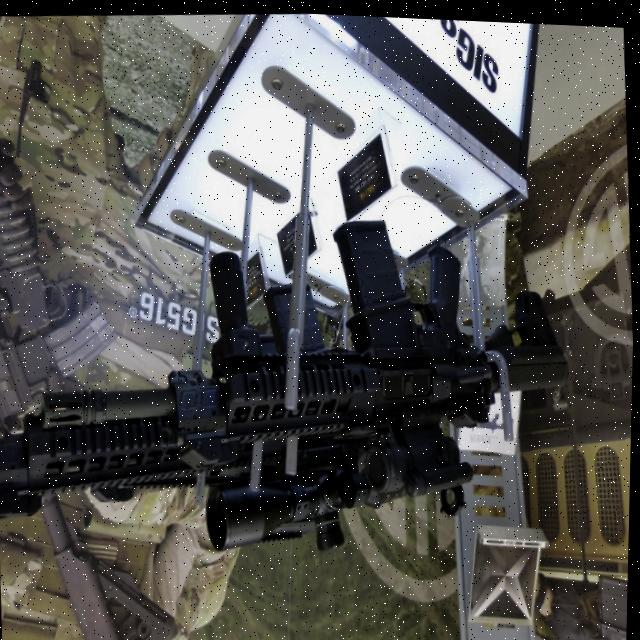firearm: (29, 191, 584, 541), (0, 232, 419, 571), (0, 86, 193, 640), (535, 563, 631, 640)
